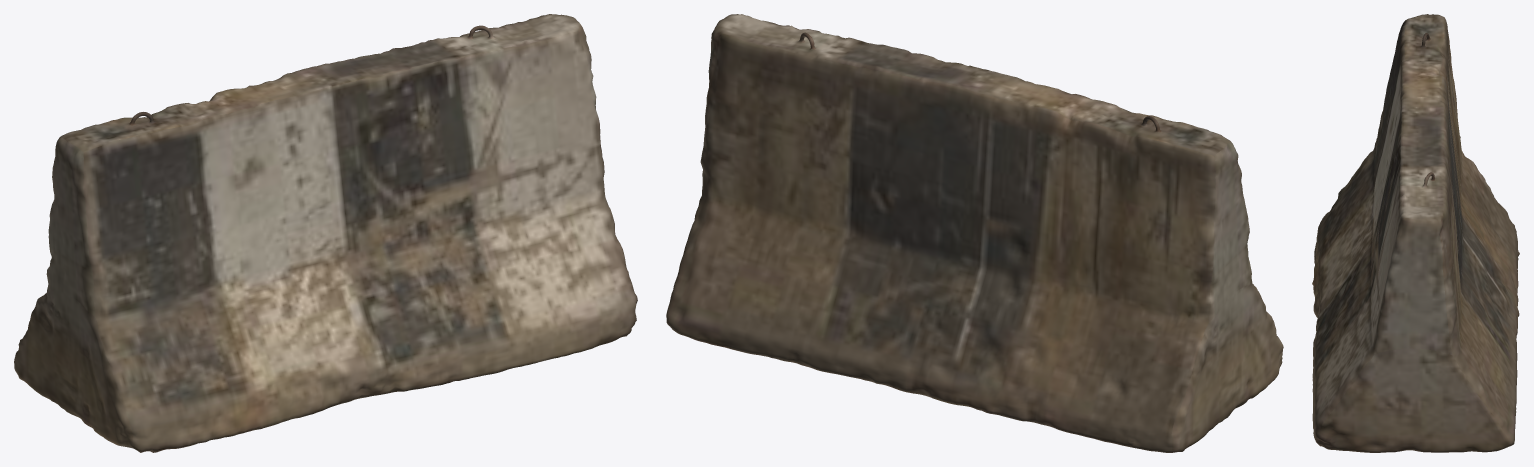
The model's file is concrete_road_barrier.glb.
3 renders of one model, left to right at view 1: azimuth 30°, elevation 25°; view 2: azimuth 150°, elevation 25°; view 3: azimuth 270°, elevation 25°, orthographic. The views are drawn at different scales.
Parts seen in each view (by area): view 1: concrete_road_barrier; view 2: concrete_road_barrier; view 3: concrete_road_barrier.
Part boxes in pixels (left/top/right/bottom): concrete_road_barrier: left=14, top=14, right=637, bottom=452; concrete_road_barrier: left=666, top=14, right=1283, bottom=452; concrete_road_barrier: left=1312, top=14, right=1519, bottom=452.
Bounding box in the file's own units: 1.55 × 0.831 × 0.6388.
1 material, 1 textured.
